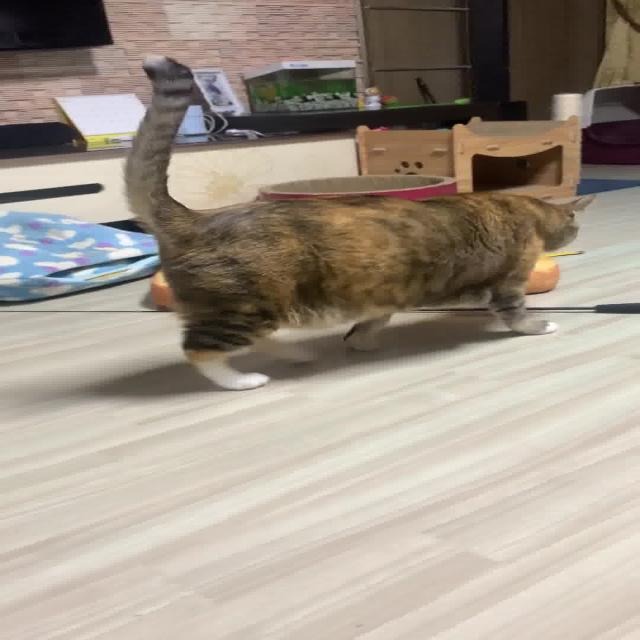cat: (114, 51, 593, 394)
